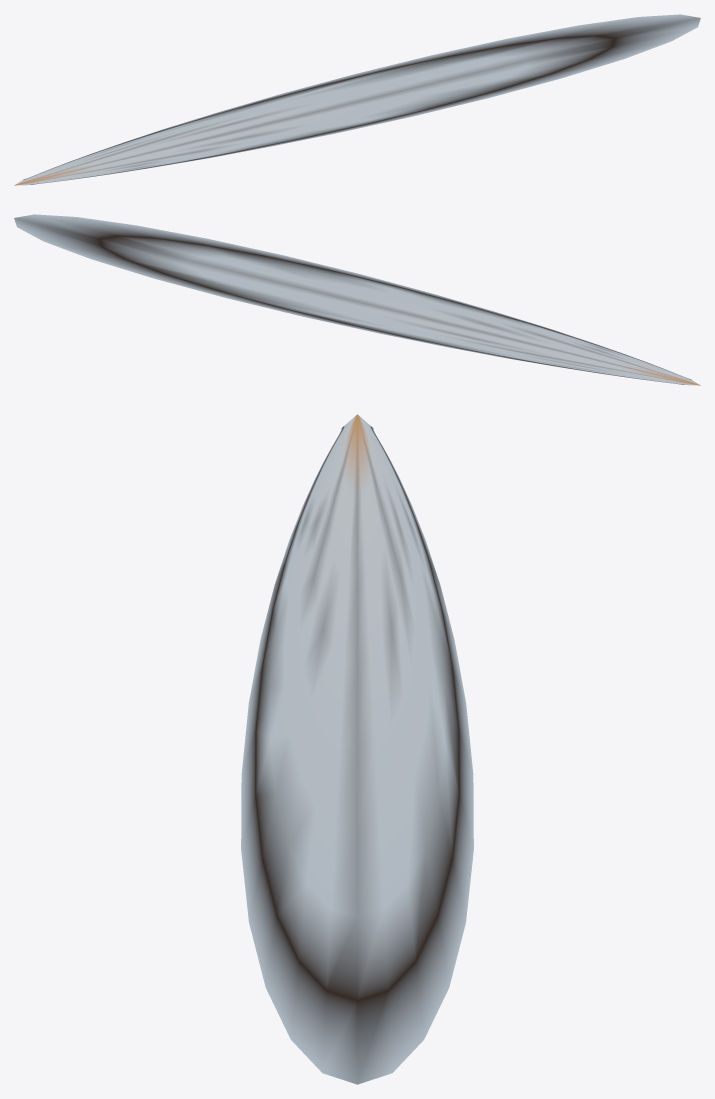
File: Dragonfly_Wing.fbx
The picture shows the model from 3 angles, top to bottom: view 1: azimuth 30°, elevation 25°; view 2: azimuth 150°, elevation 25°; view 3: azimuth 270°, elevation 25°; orthographic projection. The views are drawn at different scales.
Visible parts, largest first — view 1: Dragonfly_Wing; view 2: Dragonfly_Wing; view 3: Dragonfly_Wing.
Boxes of the visible parts, box(x1,y1,x2,y2) form: Dragonfly_Wing: box(14, 14, 700, 185); Dragonfly_Wing: box(14, 214, 700, 385); Dragonfly_Wing: box(241, 414, 473, 1084).
Bounding box in the file's own units: 0.87 × 0 × 0.1277.
